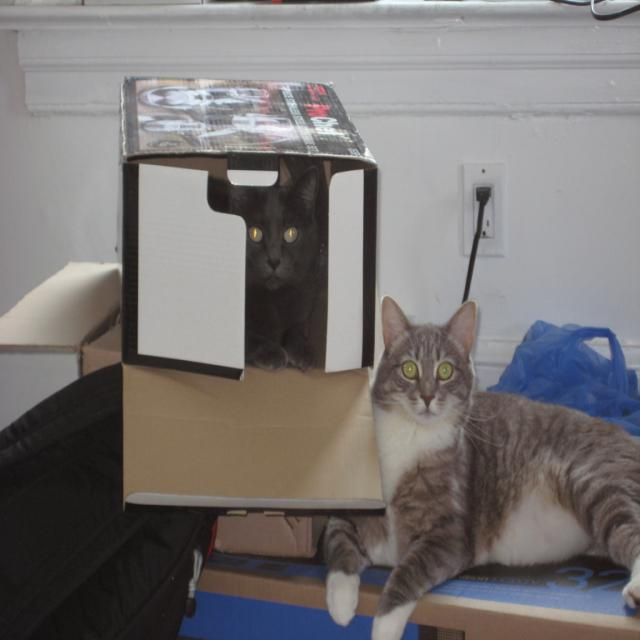Cat: (320, 292, 639, 638), (213, 168, 332, 368)
